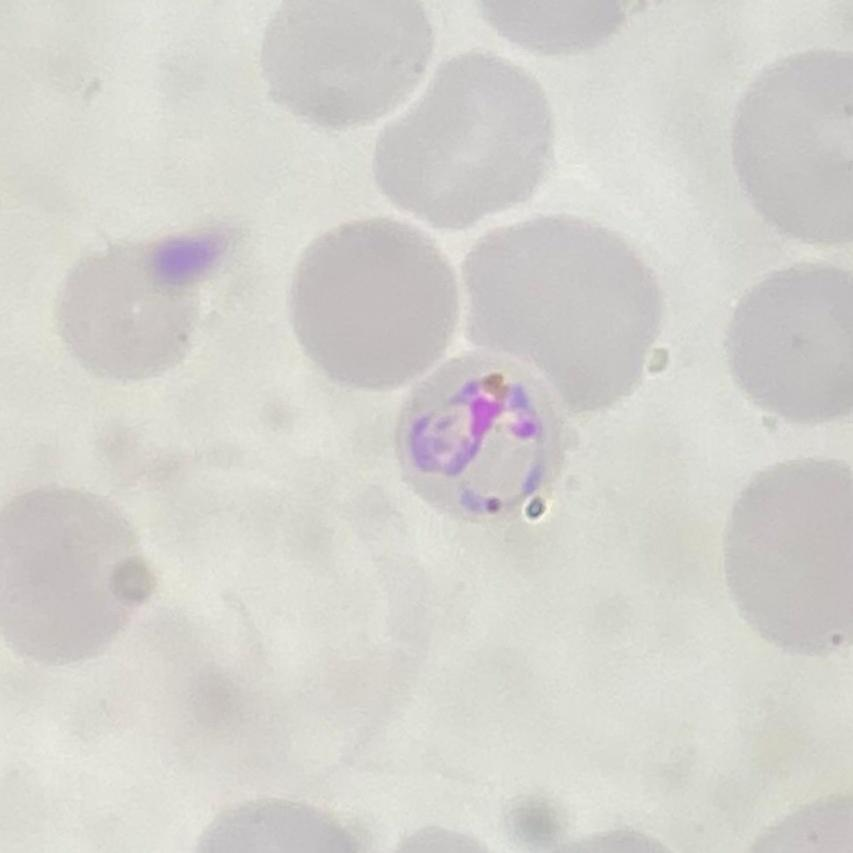Infected: (394, 353, 571, 524)
Uninfected: (458, 215, 665, 417), (376, 53, 550, 224), (292, 219, 459, 390), (2, 485, 146, 669), (724, 461, 853, 646), (734, 53, 853, 244), (266, 0, 437, 129), (728, 267, 853, 432), (60, 243, 199, 380)
